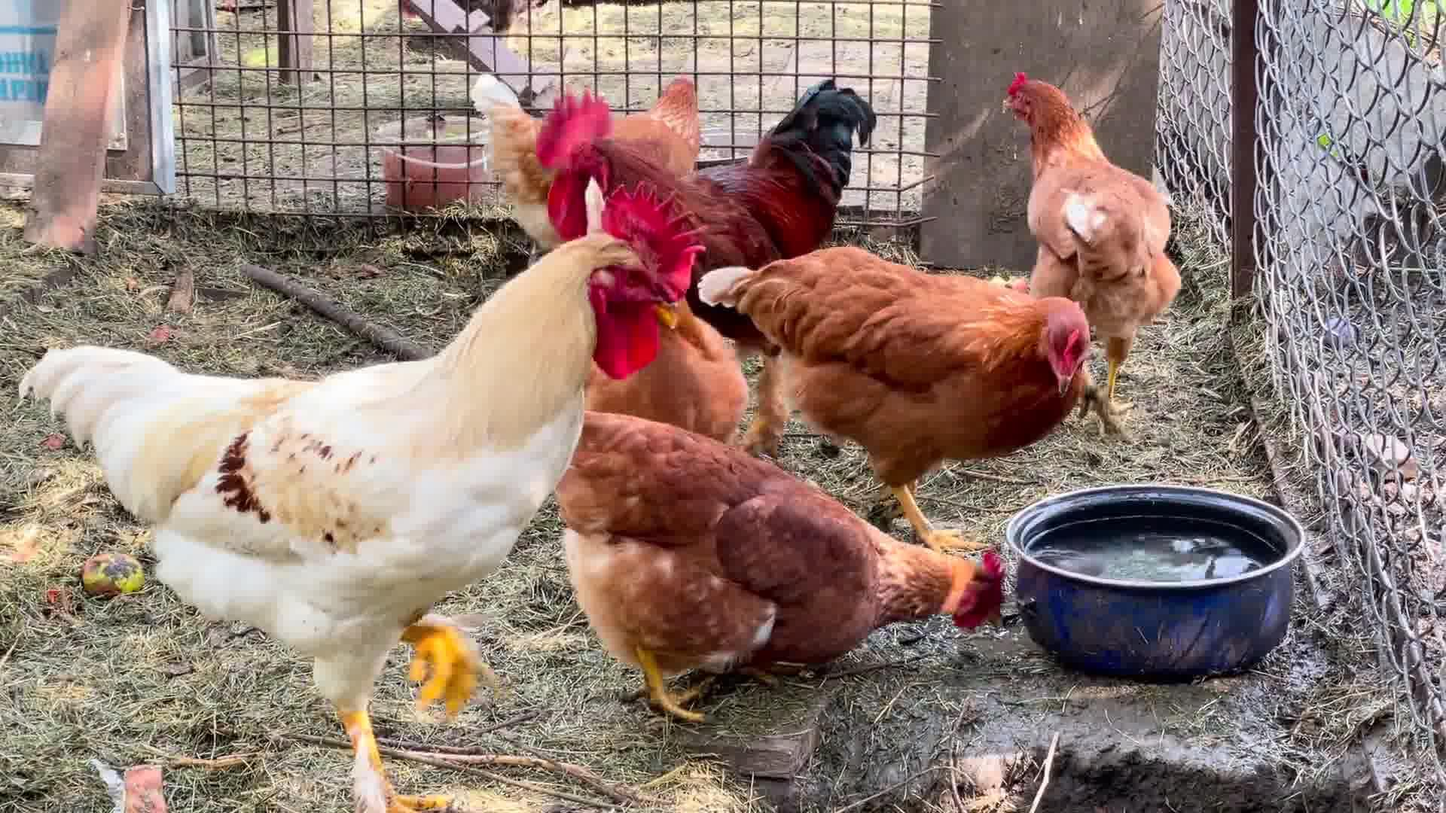Normal: (42, 202, 701, 807), (577, 401, 1000, 709), (740, 247, 1129, 554), (479, 74, 881, 282), (998, 64, 1209, 416)
